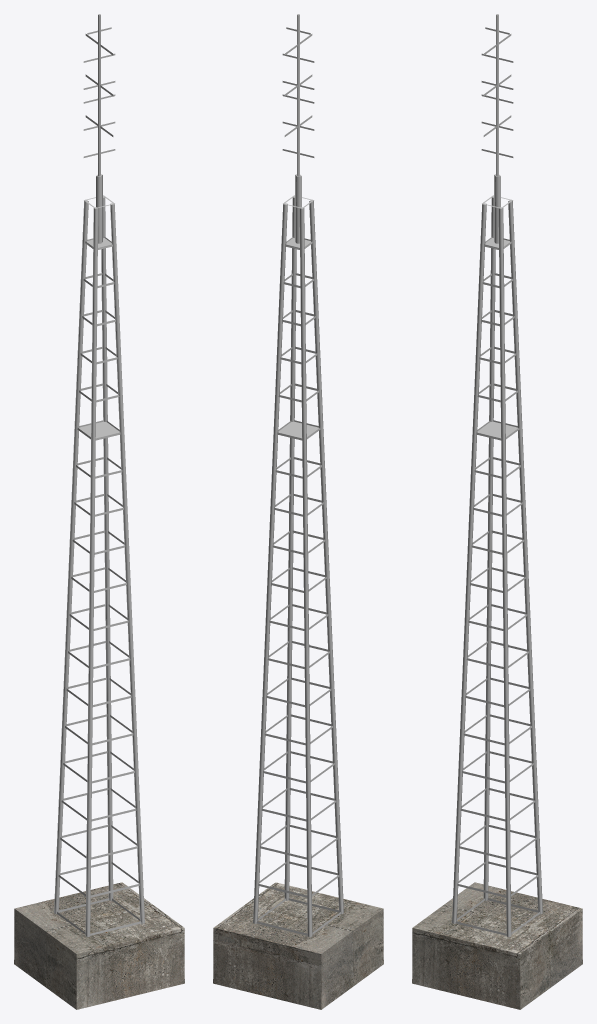
File: Mast1_LOD2.fbx
3 renders of one model, left to right at view 1: azimuth 30°, elevation 25°; view 2: azimuth 150°, elevation 25°; view 3: azimuth 330°, elevation 25°, orthographic.
Parts seen in each view (by area): view 1: polySurface381; view 2: polySurface381; view 3: polySurface381.
Part boxes in pixels (<box>): polySurface381: <box>14,14,184,1009</box>; polySurface381: <box>213,14,383,1009</box>; polySurface381: <box>412,14,582,1009</box>.
Bounding box in the file's own units: 3.96 × 33.57 × 3.96.
